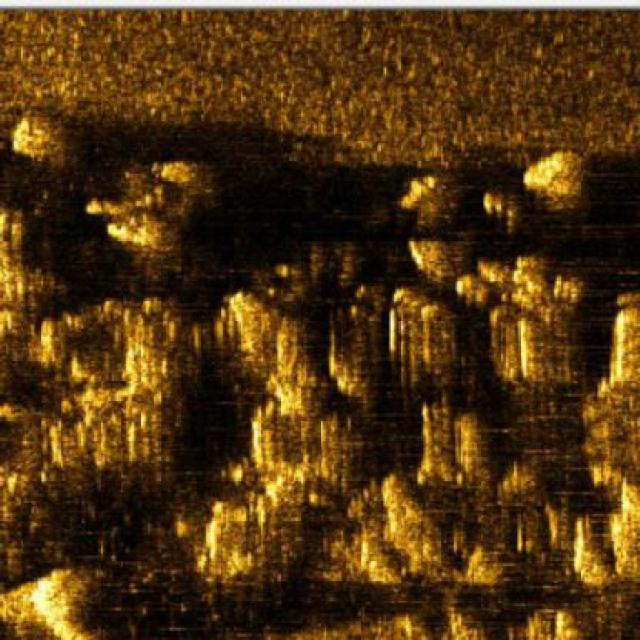bedrock group: (0, 110, 638, 638)
